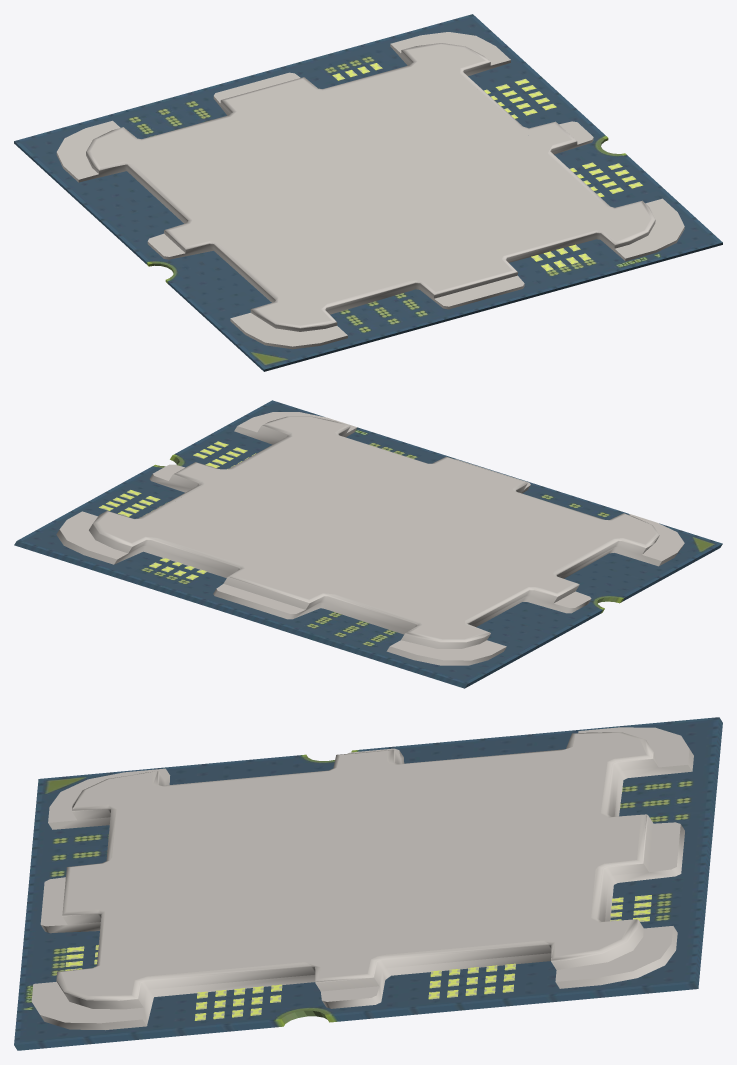
The model's file is cpu-amd-am5_lod2.glb.
3 views of the same model, one above another, from view 1: azimuth 30°, elevation 25°; view 2: azimuth 150°, elevation 25°; view 3: azimuth 270°, elevation 25° (orthographic). The views are drawn at different scales.
Parts seen in each view (by area): view 1: body; view 2: body; view 3: body.
Boxes of the visible parts, bbox=[...] form: body: bbox=[14, 14, 722, 371]; body: bbox=[14, 400, 722, 688]; body: bbox=[14, 717, 722, 1050].
Bounding box in the file's own units: 0.04 × 0.0065 × 0.04.
Materials: 3 (2 with a texture image).
